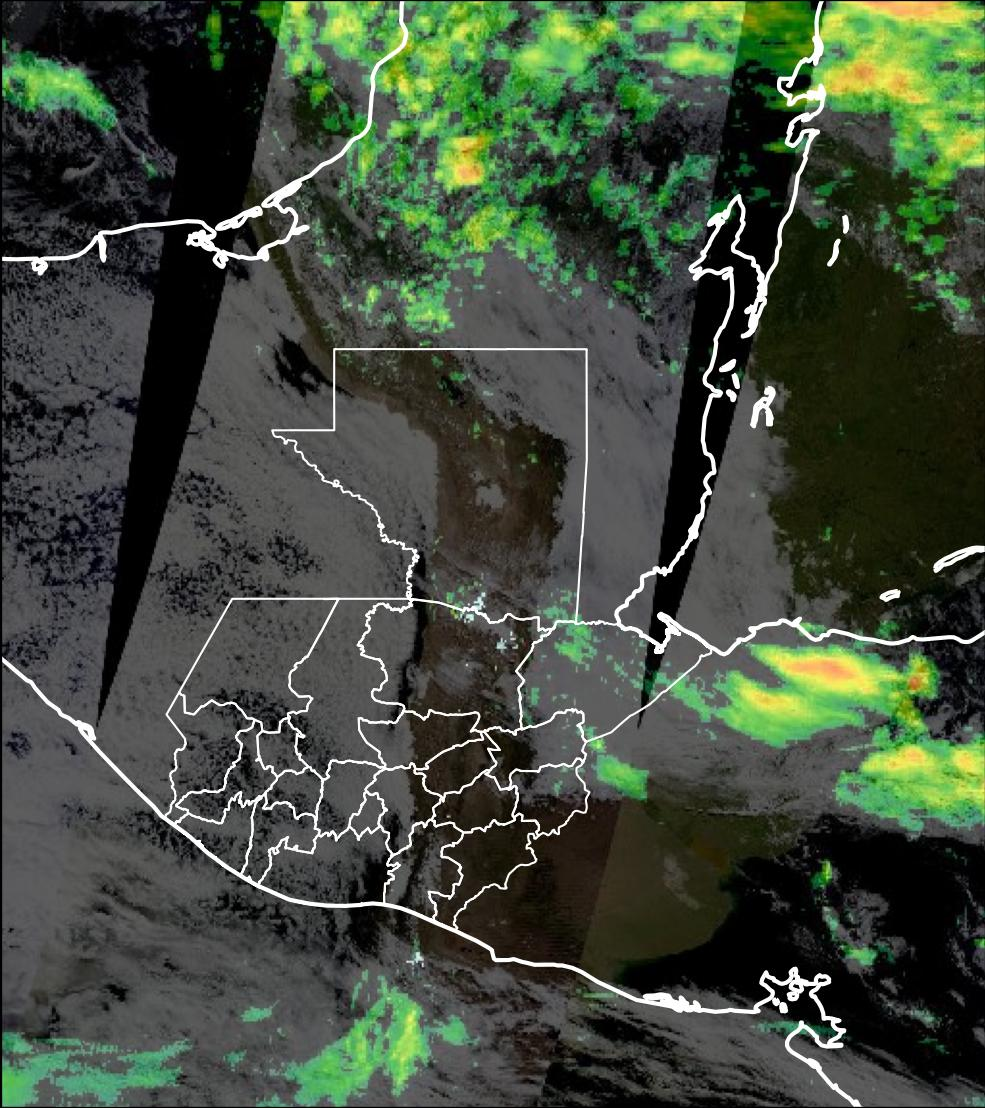precipitacion: (764, 642, 942, 704)
